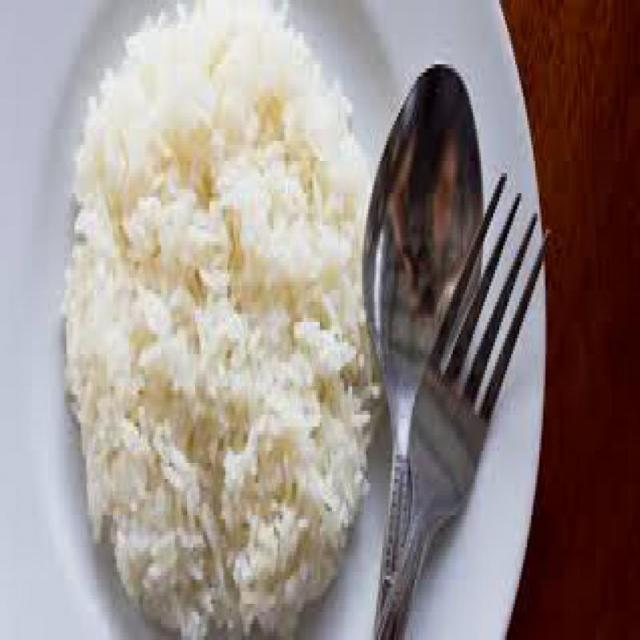Chicken -Chicken Inasal-: (59, 1, 379, 637)
